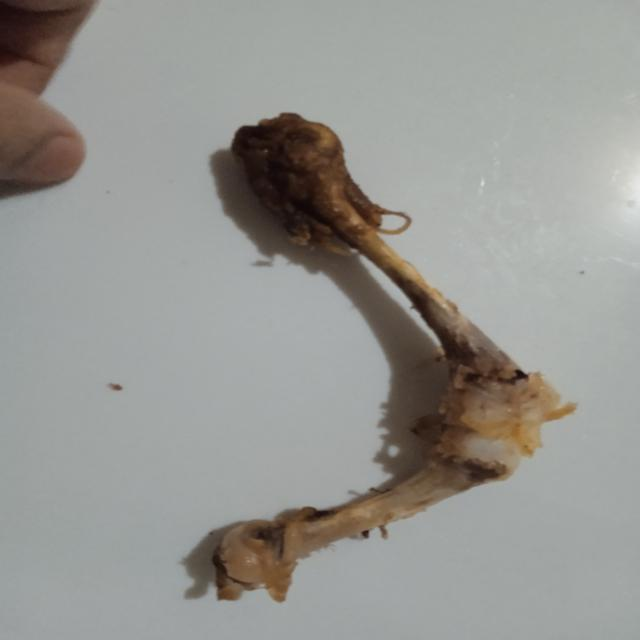bone: (178, 99, 592, 615)
